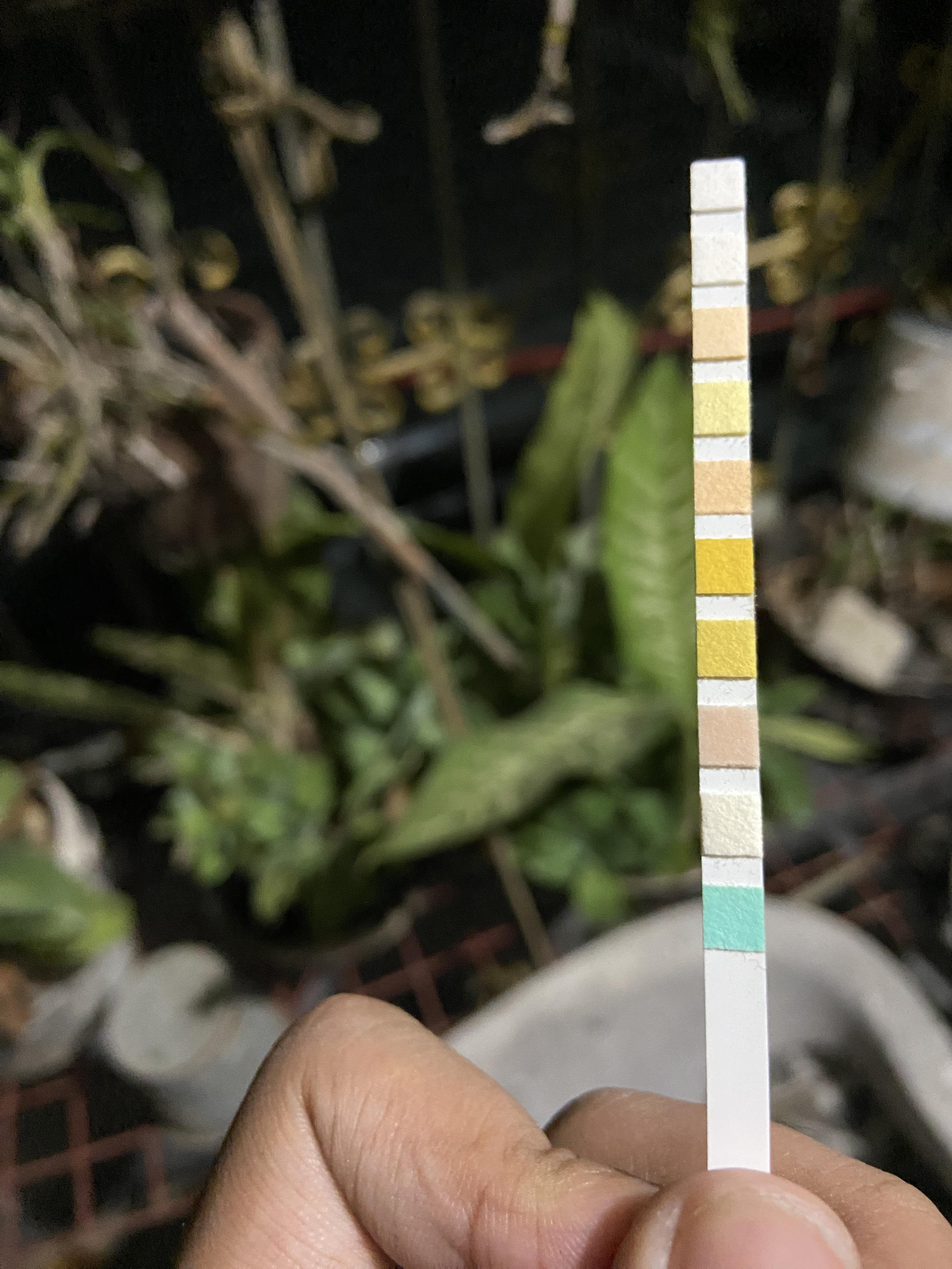Bilirubin: (703, 795, 761, 855)
Blood: (696, 540, 752, 593)
Glucose: (706, 886, 762, 950)
Ketone: (701, 707, 758, 765)
Leukocytes: (692, 163, 743, 207)
Nitrite: (694, 238, 746, 282)
Protein: (695, 383, 749, 432)
SpGravity: (698, 621, 756, 678)
Urobilinogen: (694, 310, 747, 355)
pH: (695, 463, 750, 513)
strip: (691, 160, 771, 1167)
